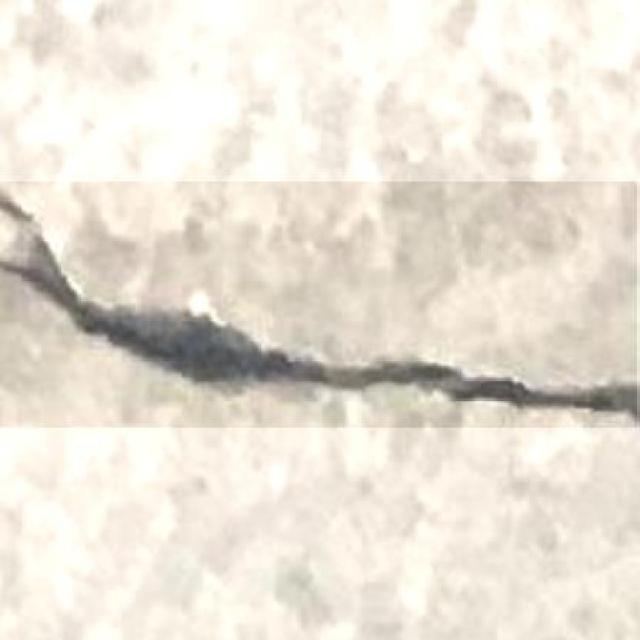Crack: (0, 185, 640, 435)
